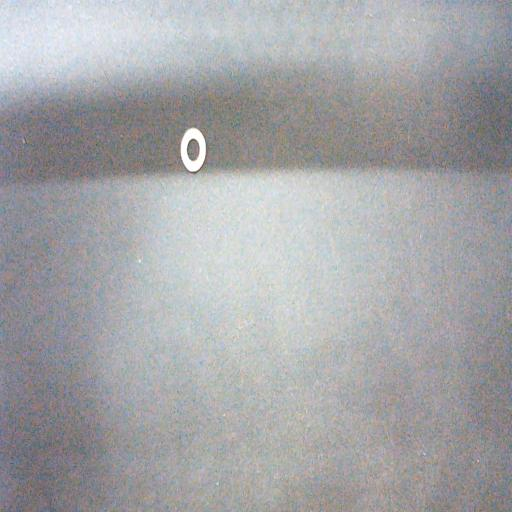washer: (181, 127, 206, 172)
